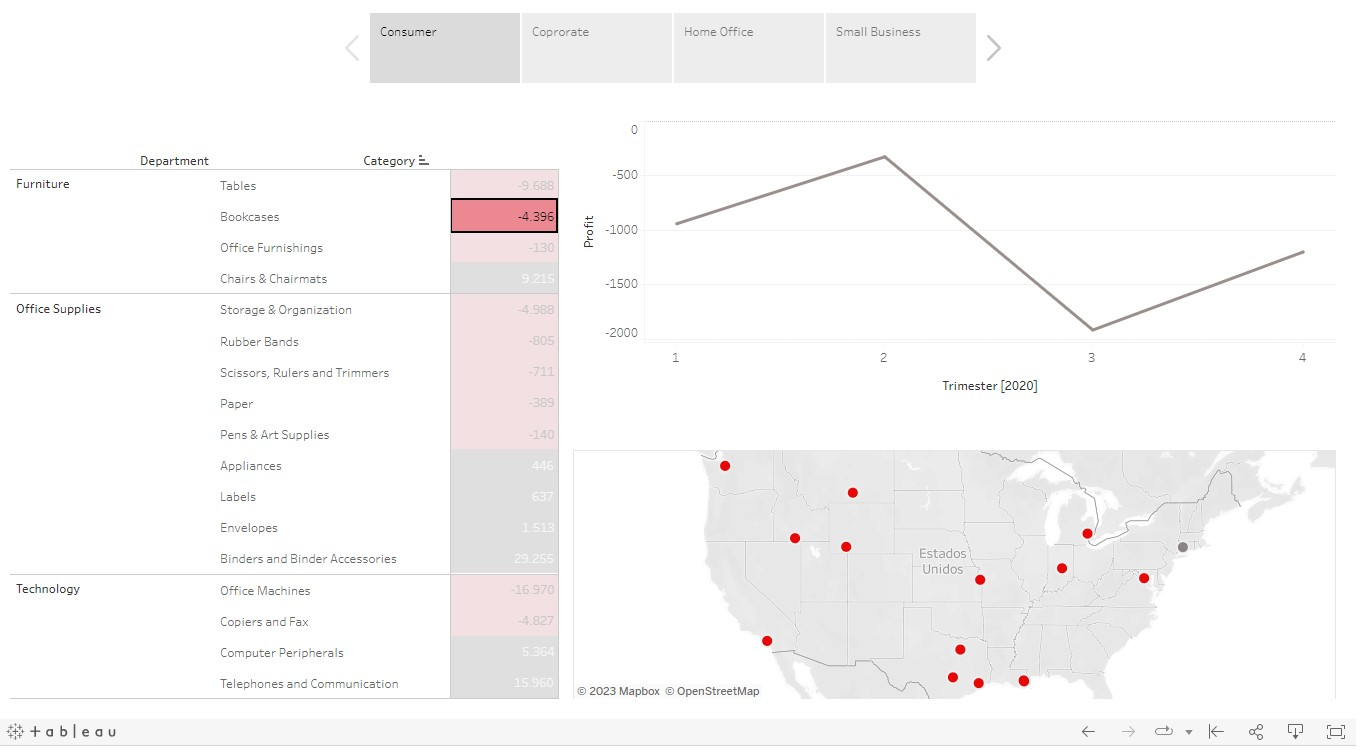

The page's visual inventory and layout, read from the dashboard file:
{"tool":"tableau","page":{"name":"ConsumerD","canvas":[1000,1000],"units":"permille","ordinal":0},"visuals":[{"type":"worksheet","title":"Cn1","mark":"Square","rows":["Department","Category"],"box":[5.2,8.9,417.8,982.1]},{"type":"worksheet","title":"Cn3","mark":"Automatic","rows":["Profit"],"cols":["Order Date"],"box":[423,8.9,571.8,491.1]},{"type":"worksheet","title":"Cn2","mark":"Automatic","box":[423,500,571.8,491.1]}]}

Visuals, with their boxes on the dashboard's canvas, which has no fixed pixel size, in thousandths of its width and height (x1, y1, x2, y2). These are canvas units, not pixel positions in the 1362x750 screenshot, which may show the page scaled, cropped or inside an application window:
"Cn1" worksheet (Square marks): select_region(5, 9, 423, 991)
"Cn3" worksheet: select_region(423, 9, 995, 500)
"Cn2" worksheet: select_region(423, 500, 995, 991)
